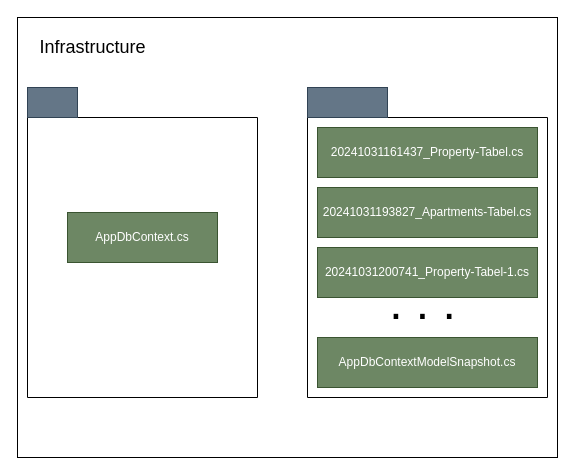
Some shapes in this 575 by 475 pixel diagram are drawn without their labels. The shapes that lost their labels are listed below. From the top down, each one's centre as x and y in pixels, then its label:
At pixel 52 102: "Data".
At pixel 347 102: "Migrations".
